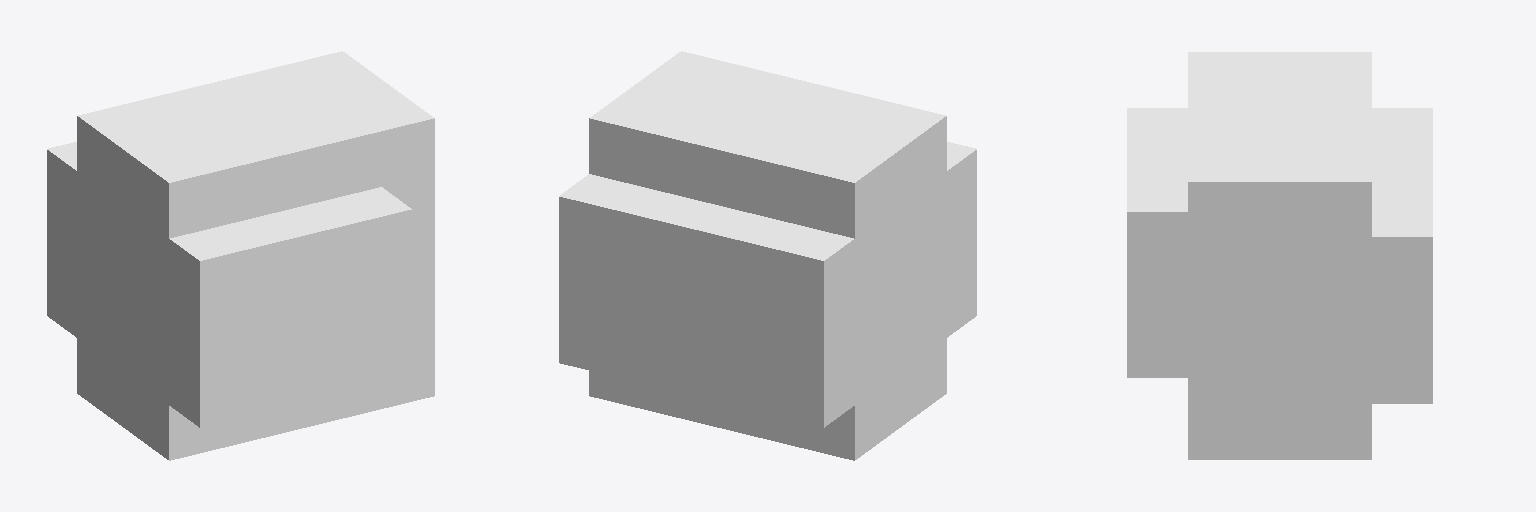
The model's file is enemy-3.obj.
3 renders of one model, left to right at view 1: azimuth 30°, elevation 25°; view 2: azimuth 150°, elevation 25°; view 3: azimuth 270°, elevation 25°, orthographic.
Parts seen in each view (by area): view 1: object 1; view 2: object 1; view 3: object 1.
Part boxes in pixels (bbox=[...]): object 1: bbox=[47, 51, 434, 460]; object 1: bbox=[559, 51, 976, 460]; object 1: bbox=[1127, 52, 1432, 459].
Size of the model in its own units: 1 by 1 by 1.